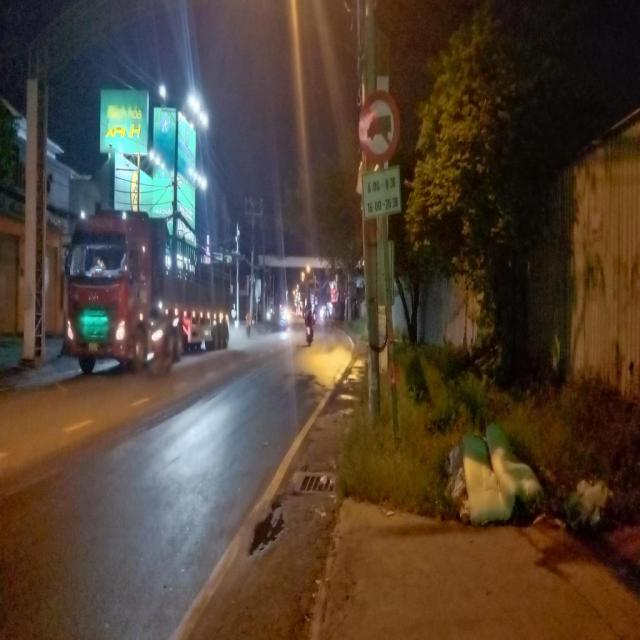cam_o_to_tai: (359, 90, 400, 163)
khac: (362, 168, 401, 220)
